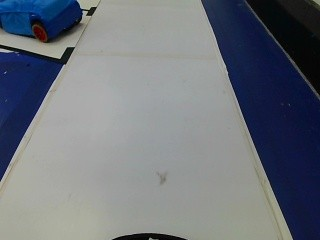car: (0, 0, 86, 44)
